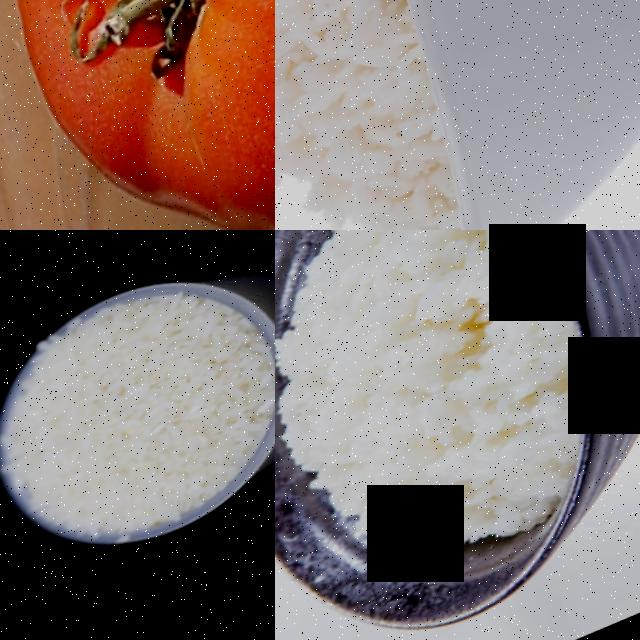tomato: (0, 0, 275, 230)
white rice: (275, 230, 600, 586), (0, 254, 275, 589), (275, 0, 479, 230)
